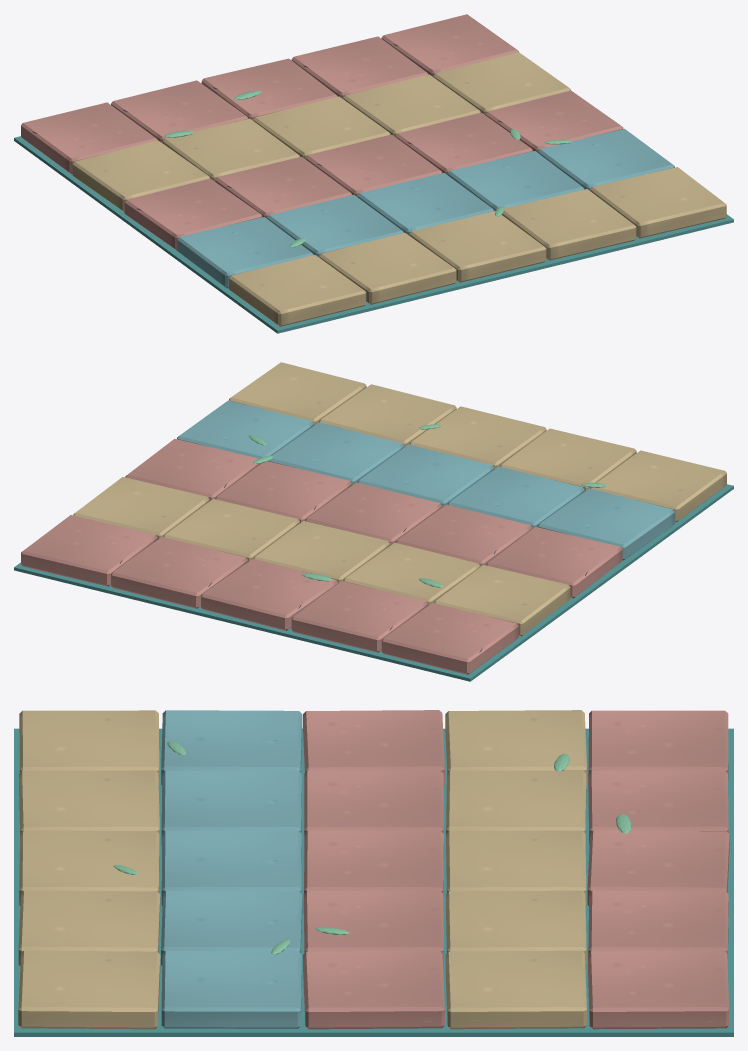
Rendered from floor_cute_moss_3p9.glb.
3 renders of one model, top to bottom at view 1: azimuth 30°, elevation 25°; view 2: azimuth 150°, elevation 25°; view 3: azimuth 270°, elevation 25°, orthographic. The views are drawn at different scales.
Visible parts, largest first — view 1: CUTE_MOSS_Tile_0_0, CUTE_MOSS_Tile_4_0, CUTE_MOSS_Tile_1_0, CUTE_MOSS_Tile_3_0, CUTE_MOSS_Tile_2_0, CUTE_MOSS_Grout, CUTE_MOSS_Tile_0_2, CUTE_MOSS_Tile_0_3, CUTE_MOSS_Tile_0_4, CUTE_MOSS_Tile_0_1, CUTE_MOSS_Tile_3_3, CUTE_MOSS_Tile_2_3 (+14 smaller); view 2: CUTE_MOSS_Tile_0_4, CUTE_MOSS_Tile_1_4, CUTE_MOSS_Tile_4_4, CUTE_MOSS_Tile_3_4, CUTE_MOSS_Grout, CUTE_MOSS_Tile_2_4, CUTE_MOSS_Tile_0_1, CUTE_MOSS_Tile_0_2, CUTE_MOSS_Tile_0_3, CUTE_MOSS_Tile_0_0, CUTE_MOSS_Tile_1_2, CUTE_MOSS_Tile_2_2 (+14 smaller); view 3: CUTE_MOSS_Grout, CUTE_MOSS_Tile_4_0, CUTE_MOSS_Tile_4_2, CUTE_MOSS_Tile_4_3, CUTE_MOSS_Tile_4_4, CUTE_MOSS_Tile_4_1, CUTE_MOSS_Tile_3_0, CUTE_MOSS_Tile_0_0, CUTE_MOSS_Tile_0_4, CUTE_MOSS_Tile_0_2, CUTE_MOSS_Tile_1_1, CUTE_MOSS_Tile_1_2 (+14 smaller).
Part boxes in pixels (<box>): CUTE_MOSS_Tile_0_0: <box>229,255,366,326</box>; CUTE_MOSS_Tile_4_0: <box>590,167,726,238</box>; CUTE_MOSS_Tile_1_0: <box>319,233,456,304</box>; CUTE_MOSS_Tile_3_0: <box>501,189,636,260</box>; CUTE_MOSS_Tile_2_0: <box>409,211,546,282</box>; CUTE_MOSS_Grout: <box>14,136,733,333</box>; CUTE_MOSS_Tile_0_2: <box>124,178,262,250</box>; CUTE_MOSS_Tile_0_3: <box>72,140,210,211</box>; CUTE_MOSS_Tile_0_4: <box>21,102,157,174</box>; CUTE_MOSS_Tile_0_1: <box>177,217,313,288</box>; CUTE_MOSS_Tile_3_3: <box>343,74,480,136</box>; CUTE_MOSS_Tile_2_3: <box>253,96,390,158</box>; CUTE_MOSS_Tile_0_4: <box>381,603,518,674</box>; CUTE_MOSS_Tile_1_4: <box>291,581,428,652</box>; CUTE_MOSS_Tile_4_4: <box>21,515,157,586</box>; CUTE_MOSS_Tile_3_4: <box>111,537,248,608</box>; CUTE_MOSS_Grout: <box>14,484,733,681</box>; CUTE_MOSS_Tile_2_4: <box>201,558,338,630</box>; CUTE_MOSS_Tile_0_1: <box>537,488,675,560</box>; CUTE_MOSS_Tile_0_2: <box>486,527,622,598</box>; CUTE_MOSS_Tile_0_3: <box>434,565,570,636</box>; CUTE_MOSS_Tile_0_0: <box>590,450,726,522</box>; CUTE_MOSS_Tile_1_2: <box>395,504,532,566</box>; CUTE_MOSS_Tile_2_2: <box>305,482,442,545</box>; CUTE_MOSS_Grout: <box>14,728,733,1036</box>; CUTE_MOSS_Tile_4_0: <box>18,950,160,1029</box>; CUTE_MOSS_Tile_4_2: <box>303,950,444,1029</box>; CUTE_MOSS_Tile_4_3: <box>445,950,586,1029</box>; CUTE_MOSS_Tile_4_4: <box>588,950,728,1029</box>; CUTE_MOSS_Tile_4_1: <box>161,951,301,1028</box>; CUTE_MOSS_Tile_3_0: <box>18,890,160,966</box>; CUTE_MOSS_Tile_0_0: <box>19,710,159,785</box>; CUTE_MOSS_Tile_0_4: <box>588,710,728,778</box>; CUTE_MOSS_Tile_0_2: <box>303,710,444,785</box>; CUTE_MOSS_Tile_1_1: <box>161,770,301,844</box>; CUTE_MOSS_Tile_1_2: <box>304,770,443,834</box>.
Bounding box in the file's own units: 3.95 × 0.2435 × 3.95.
5 materials, 3 textured.
